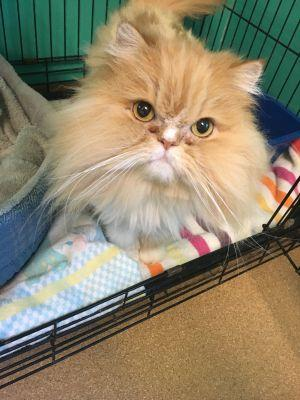persian: (65, 9, 285, 213)
